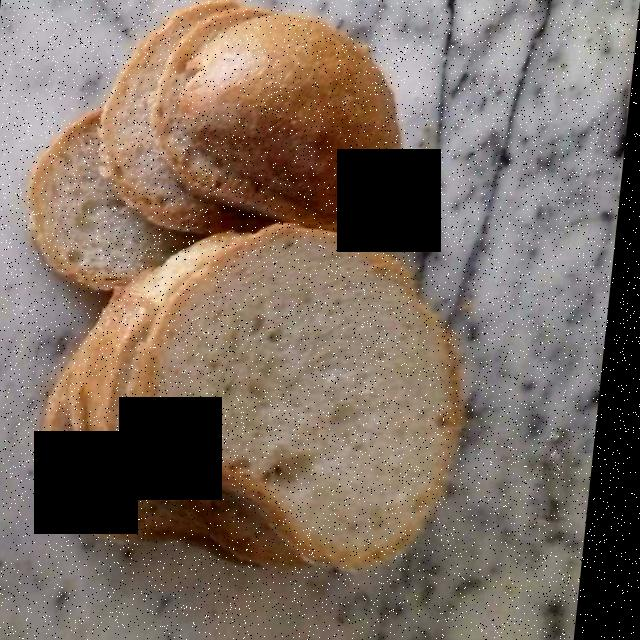bread-white: (21, 5, 476, 579)
